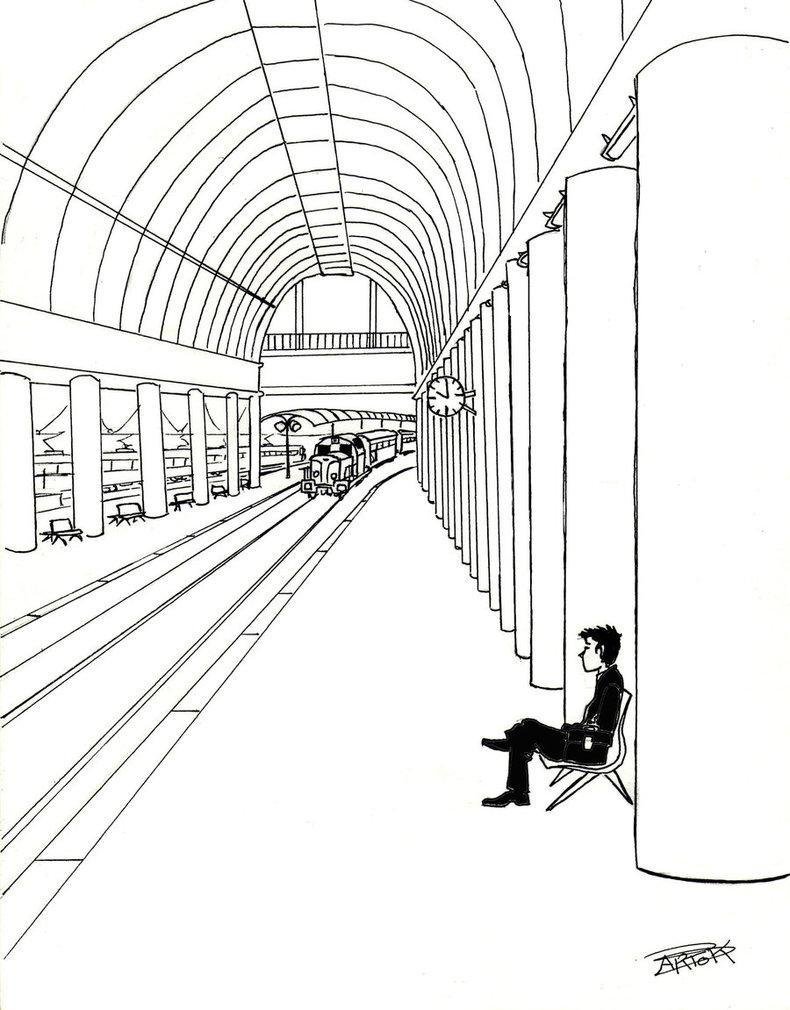chair: (529, 681, 636, 810)
person: (463, 594, 626, 820)
train: (297, 415, 424, 503)
